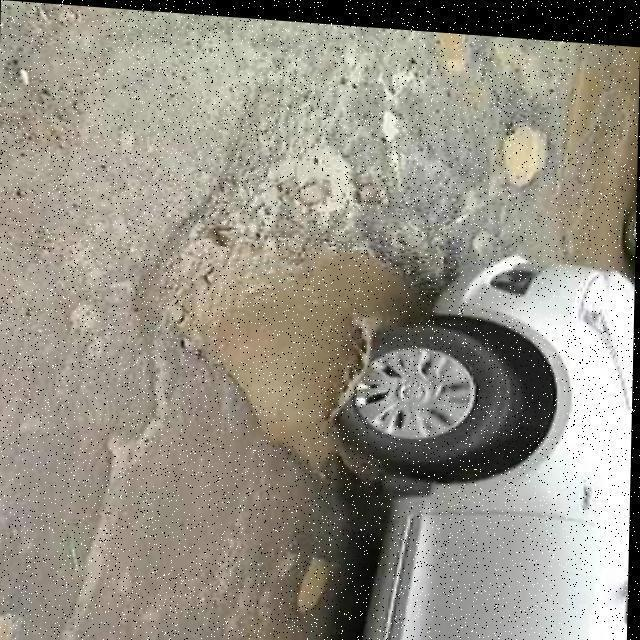Pothole: (136, 142, 464, 490), (495, 115, 559, 194), (296, 548, 338, 618)
